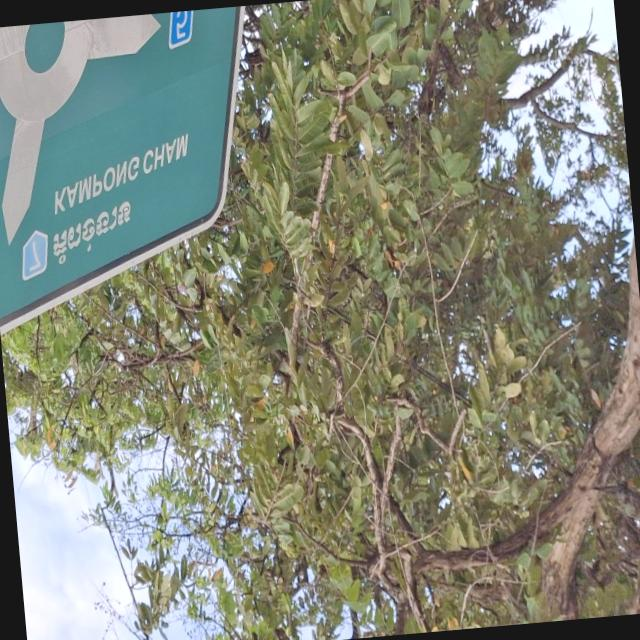Yolov11kh: (37, 184, 148, 282)
